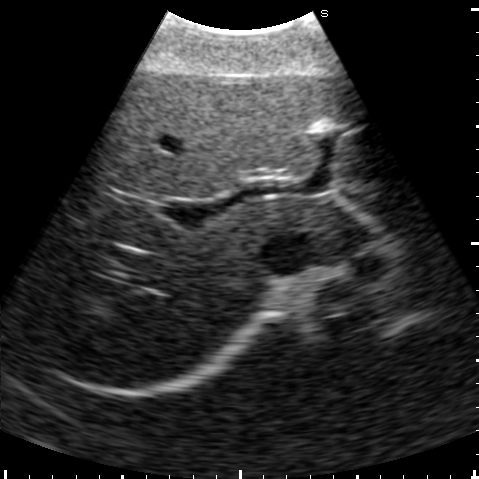IVC: (257, 235, 311, 273)
S1: (282, 200, 365, 253)
S2: (340, 188, 423, 228)
S3: (328, 78, 404, 194)
S4: (97, 74, 340, 198)
Tumor: (306, 118, 339, 132)
